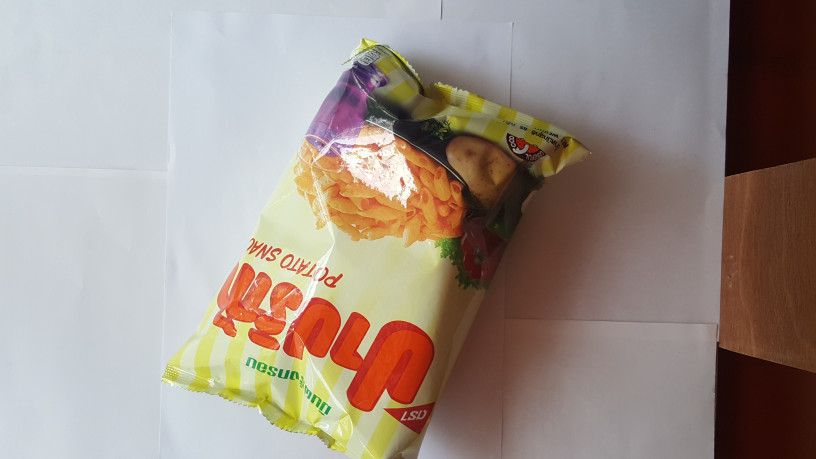paprika: (167, 22, 600, 459)
